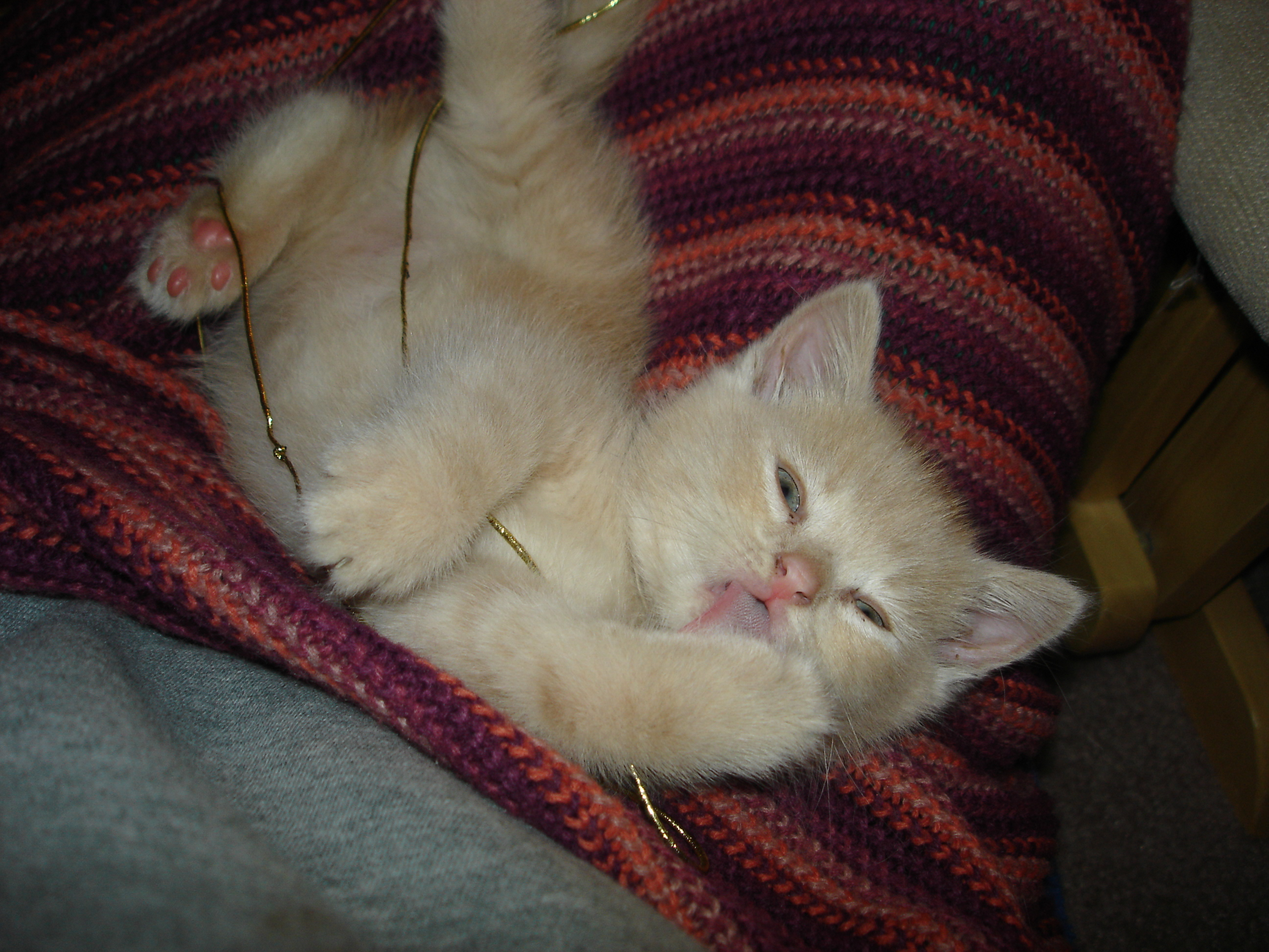cat: (111, 0, 1096, 793)
